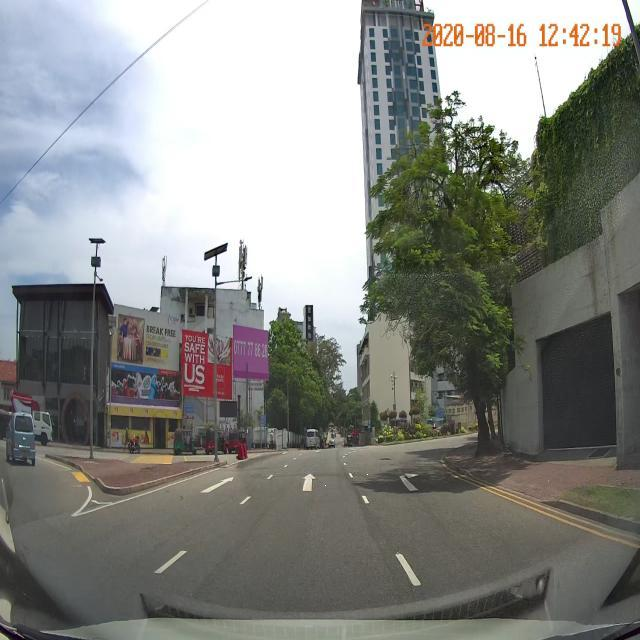forward: (251, 468, 364, 494)
right: (349, 467, 481, 503)
